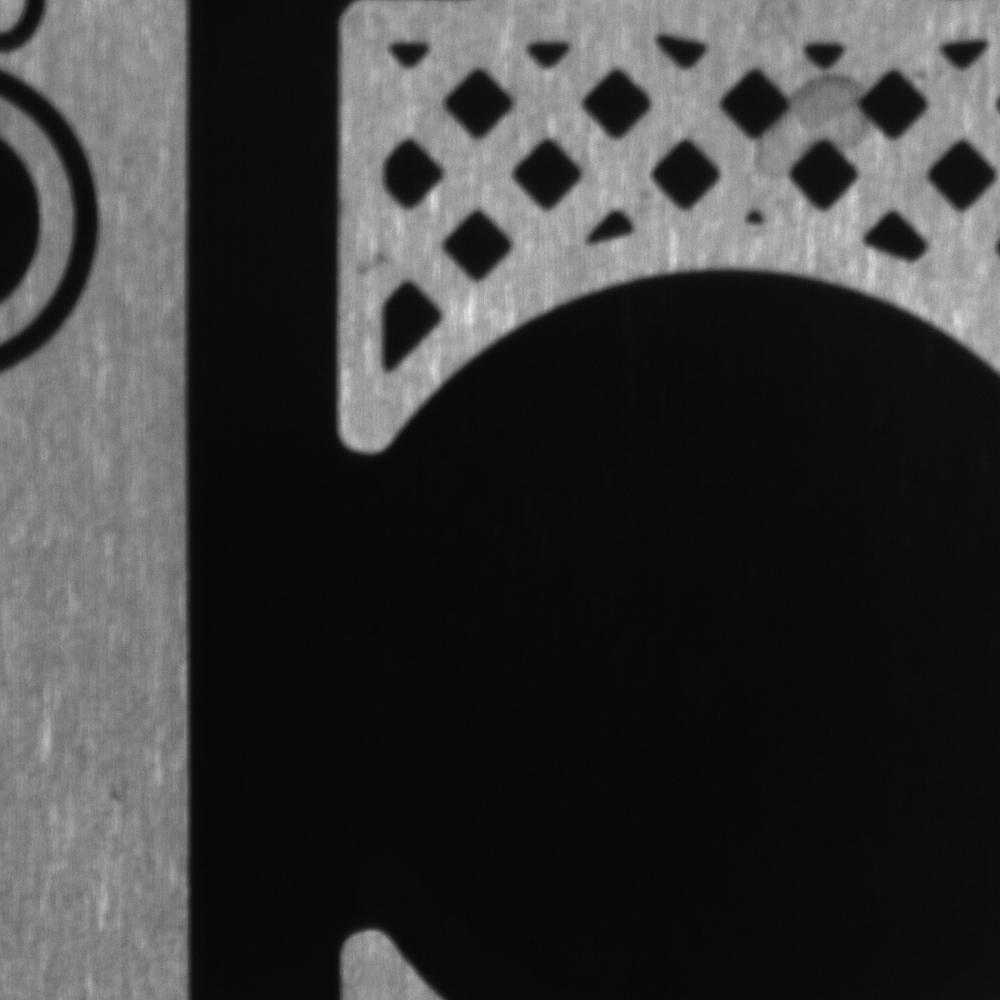Discolor: (746, 58, 884, 183)
